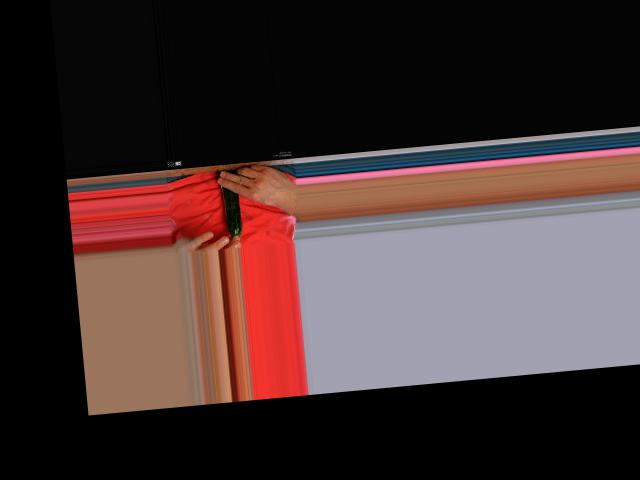cucumber: (222, 184, 243, 237)
